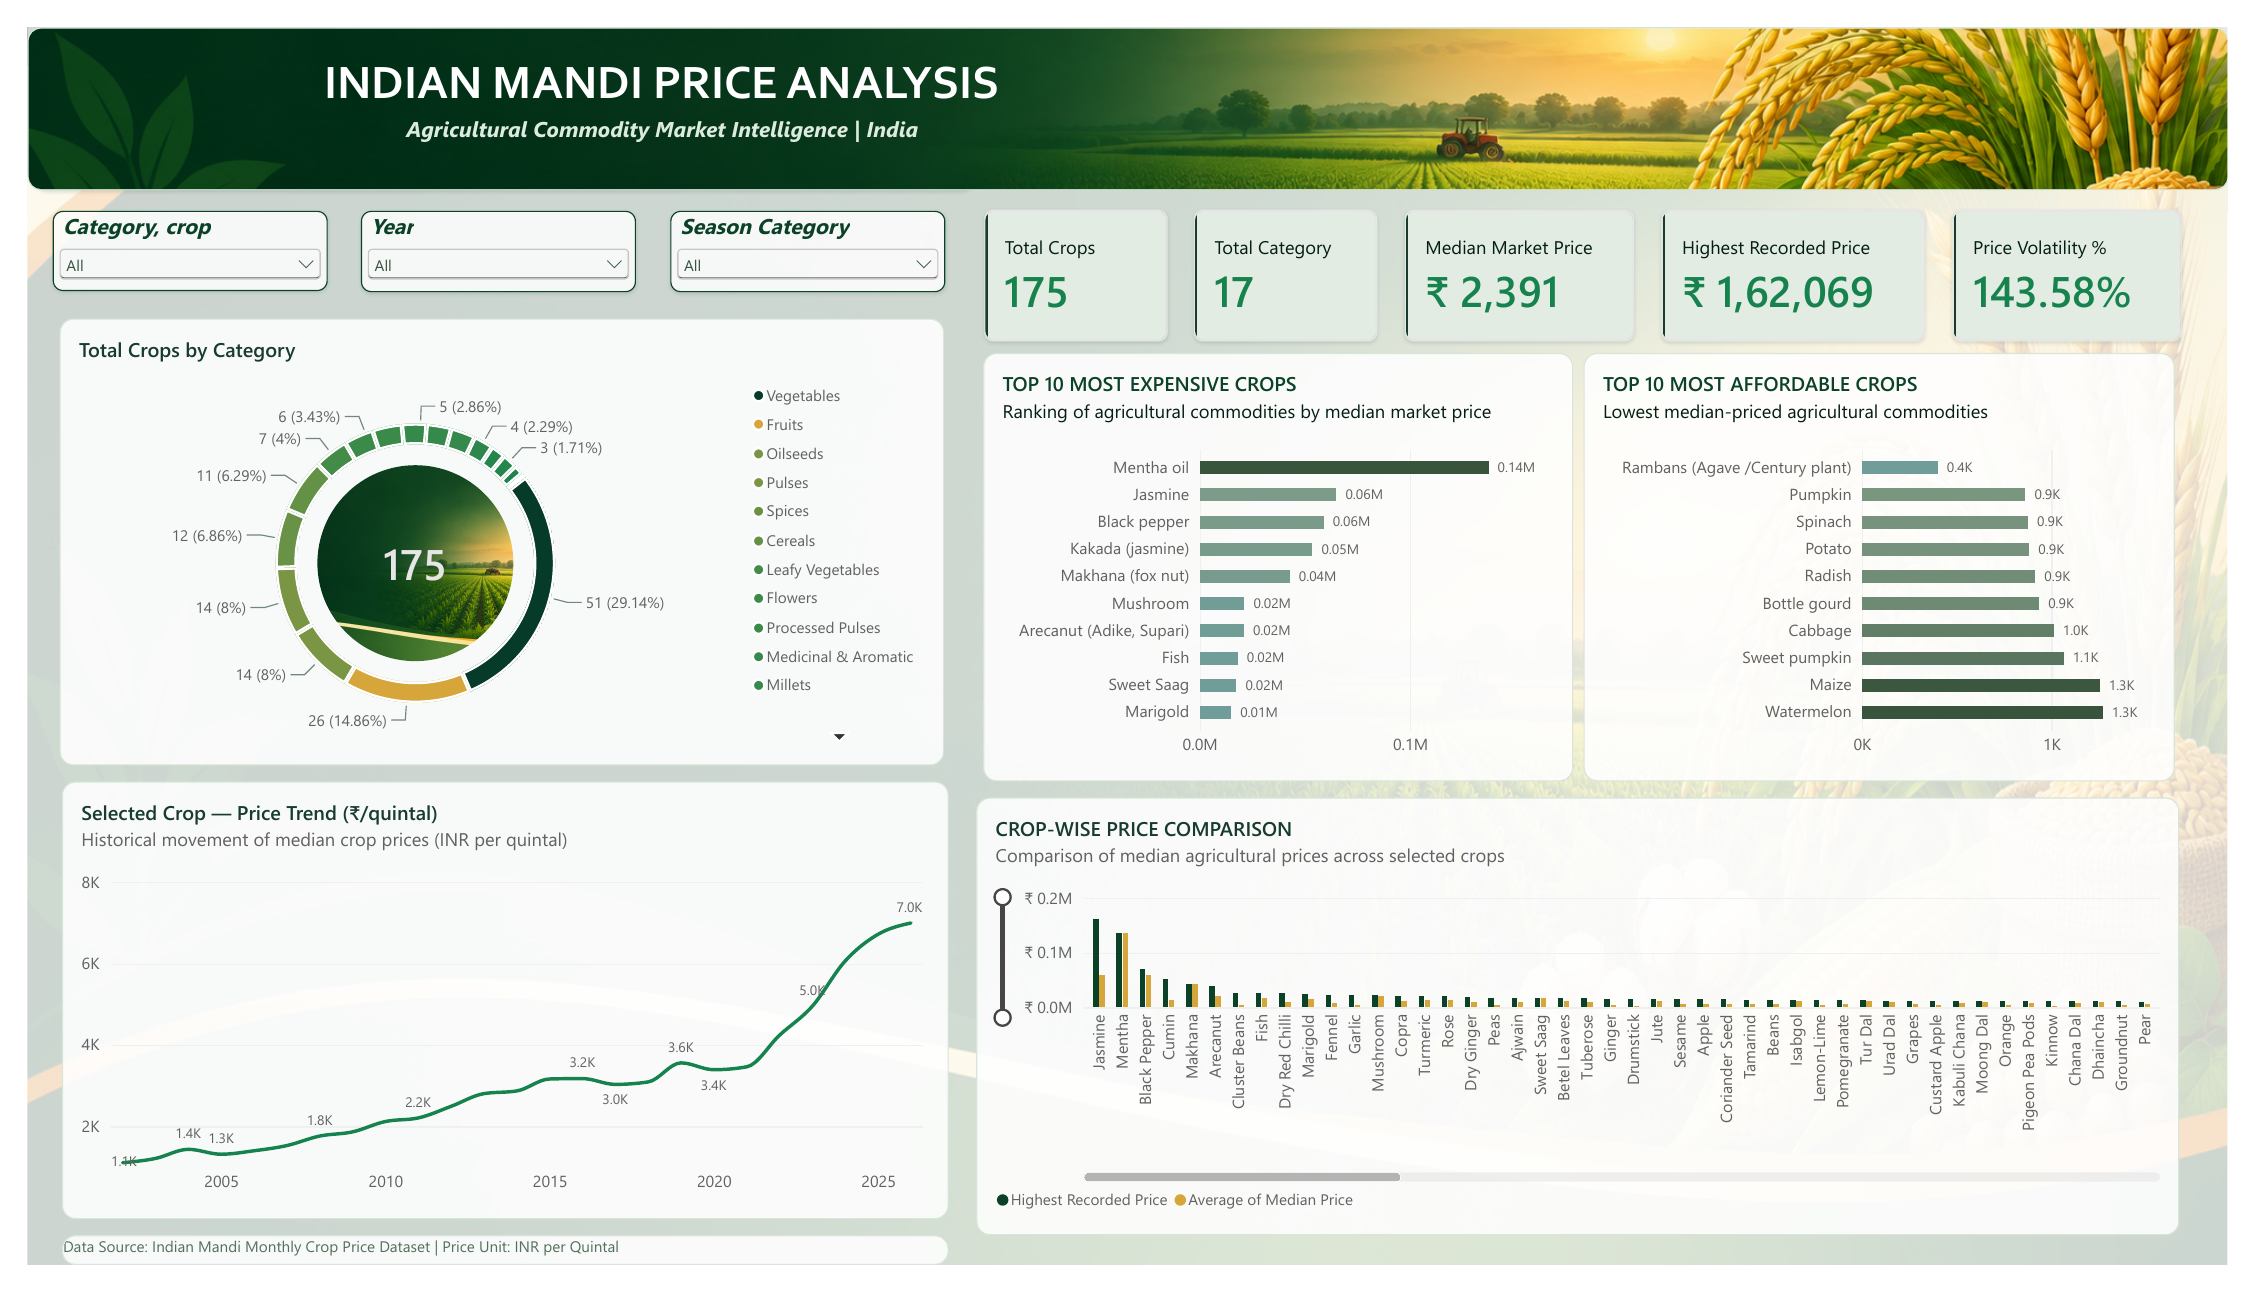

The page's visual inventory and layout, read from the dashboard file:
{"tool":"powerbi","page":{"name":"Mandi Price Analysis","canvas":[1920,1080],"ordinal":0},"visuals":[{"type":"slicer","fields":{"Values":["mandi-india-monthly.crop"]},"box":[22.1,160,240,70.4],"z":0},{"type":"cardVisual","title":"Average price (INR/quintal)","fields":{"Data":["MEASURES (2).Total Crops"]},"box":[834.7,159.4,160,114.6],"z":1000},{"type":"cardVisual","title":"Selected Crop Average Price (₹/quintal)","fields":{"Data":["MEASURES (2).Total Records"]},"box":[1018.4,159.1,160,114.6],"z":2000},{"type":"shape","box":[6.3,0,821,141.7],"z":3000},{"type":"image","box":[0,0,1920.8,141.6],"z":3500},{"type":"textbox","title":"INDIAN MANDI PRICE ANALYSIS","box":[257.8,23.2,592.3,118.8],"z":4000},{"type":"slicer","fields":{"Values":["mandi-india-monthly.Period.Variation.Date Hierarchy.Year"]},"box":[291.3,160.2,240,70.4],"z":6000},{"type":"cardVisual","title":"Average price (INR/quintal)","fields":{"Data":["MEASURES (2).Highest Recorded Price"]},"box":[1425.9,158.5,230,115.2],"z":8000},{"type":"cardVisual","title":"Selected Crop Historical CV (%)","fields":{"Data":["MEASURES (2).Median Market Price"]},"box":[1202.2,159.3,200,115],"z":9000},{"type":"clusteredBarChart","title":"\tTOP 10 MOST EXPENSIVE CROPS","fields":{"Category":["mandi-india-monthly.crop"],"Y":["Avg(mandi-india-monthly.Median Price)"]},"box":[25.4,249.3,775.5,397.3],"z":10000},{"type":"lineChart","title":"Selected Crop — Price Trend (₹/quintal)","fields":{"Category":["mandi-india-monthly.Period.Variation.Date Hierarchy.Year","mandi-india-monthly.Period.Variation.Date Hierarchy.Month","mandi.Period.Variation.Date Hierarchy.Day"],"Y":["Avg(mandi-india-monthly.Median Price)"]},"box":[827.5,285.6,1050.9,360.7],"z":11000},{"type":"clusteredColumnChart","title":"CROP-WISE PRICE COMPARISON","fields":{"Category":["mandi.crop"],"Y":["MEASURES (2).Highest Recorded Price","Avg(mandi.Median Price)"]},"box":[828.3,671.9,1050.2,382.5],"z":12000},{"type":"clusteredBarChart","title":"TOP 10 MOST AFFORDABLE CROPS","fields":{"Category":["mandi-india-monthly.crop"],"Y":["Avg(mandi-india-monthly.Median Price)"]},"box":[27.5,667.7,775.5,386.7],"z":13000},{"type":"slicer","fields":{"Values":["mandi.Season Category"]},"box":[560.5,160.4,240,70.4],"z":14000},{"type":"cardVisual","title":"Average price (INR/quintal)","fields":{"Data":["mandi.Price Volatility %"]},"box":[1679.7,158.9,200,115.2],"z":16000},{"type":"textbox","box":[14.6,1054.4,835.6,25],"z":17000}]}

Visuals, with their boxes in screenshot pixels (x1, y1, x2, y2), scaled from the page's 1920x1080 canvas onto the 2255x1293 screenshot:
slicer - mandi-india-monthly.crop: Rect(26, 192, 308, 276)
"Average price (INR/quintal)" cardVisual: Rect(980, 191, 1168, 328)
"Selected Crop Average Price (₹/quintal)" cardVisual: Rect(1196, 190, 1384, 328)
shape: Rect(7, 0, 972, 170)
image: Rect(0, 0, 2254, 170)
"INDIAN MANDI PRICE ANALYSIS" textbox: Rect(303, 28, 998, 170)
slicer - mandi-india-monthly.Period.Variation.Date Hierarchy.Year: Rect(342, 192, 624, 276)
"Average price (INR/quintal)" cardVisual: Rect(1675, 190, 1945, 328)
"Selected Crop Historical CV (%)" cardVisual: Rect(1412, 191, 1647, 328)
"	TOP 10 MOST EXPENSIVE CROPS" clusteredBarChart: Rect(30, 298, 941, 774)
"Selected Crop — Price Trend (₹/quintal)" lineChart: Rect(972, 342, 2206, 774)
"CROP-WISE PRICE COMPARISON" clusteredColumnChart: Rect(973, 804, 2206, 1262)
"TOP 10 MOST AFFORDABLE CROPS" clusteredBarChart: Rect(32, 799, 943, 1262)
slicer - mandi.Season Category: Rect(658, 192, 940, 276)
"Average price (INR/quintal)" cardVisual: Rect(1973, 190, 2208, 328)
textbox: Rect(17, 1262, 999, 1292)
